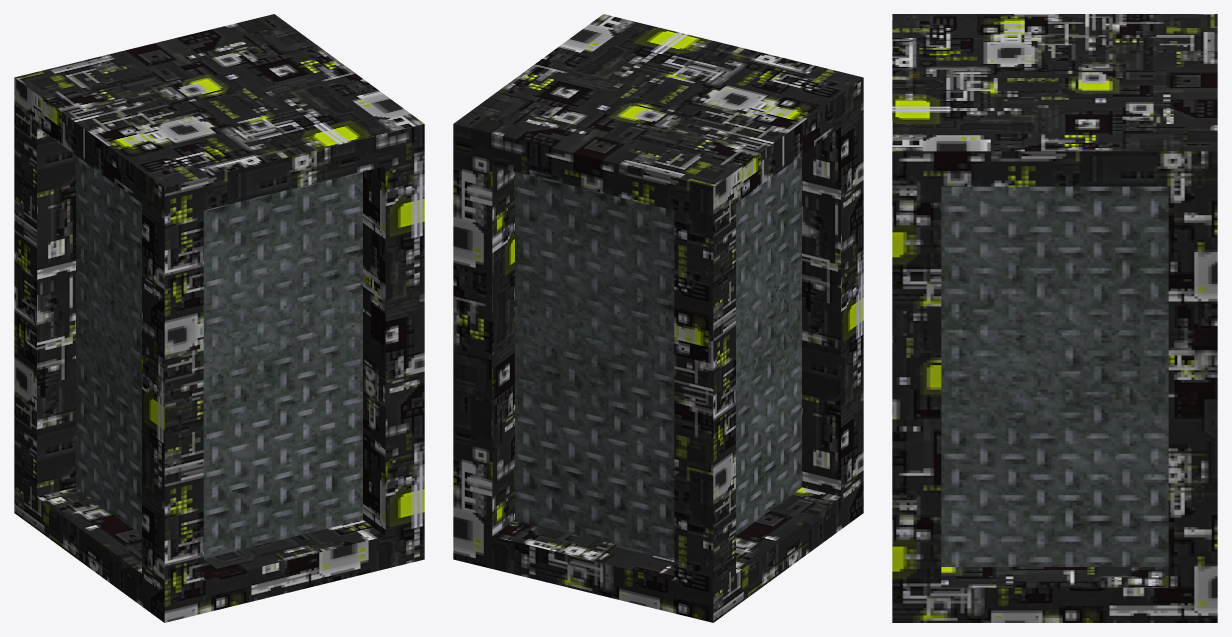
File: computer.fbx
3 renders of one model, left to right at view 1: azimuth 30°, elevation 25°; view 2: azimuth 150°, elevation 25°; view 3: azimuth 270°, elevation 25°, orthographic. The views are drawn at different scales.
Parts seen in each view (by area): view 1: Computer; view 2: Computer; view 3: Computer.
Boxes of the visible parts, <box> form: Computer: <box>14,14,424,622</box>; Computer: <box>453,14,863,622</box>; Computer: <box>892,14,1217,622</box>.
Size of the model in its own units: 161 by 257 by 161.
